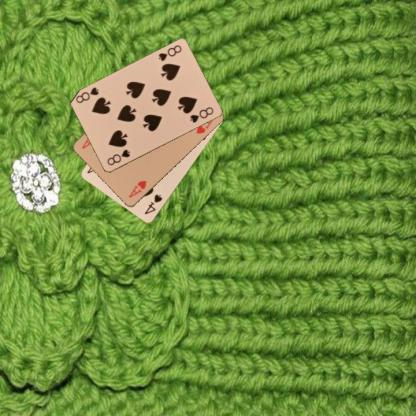4s: (142, 192, 164, 216)
8s: (105, 147, 131, 167), (156, 43, 182, 63)
Ah: (126, 178, 148, 199)
